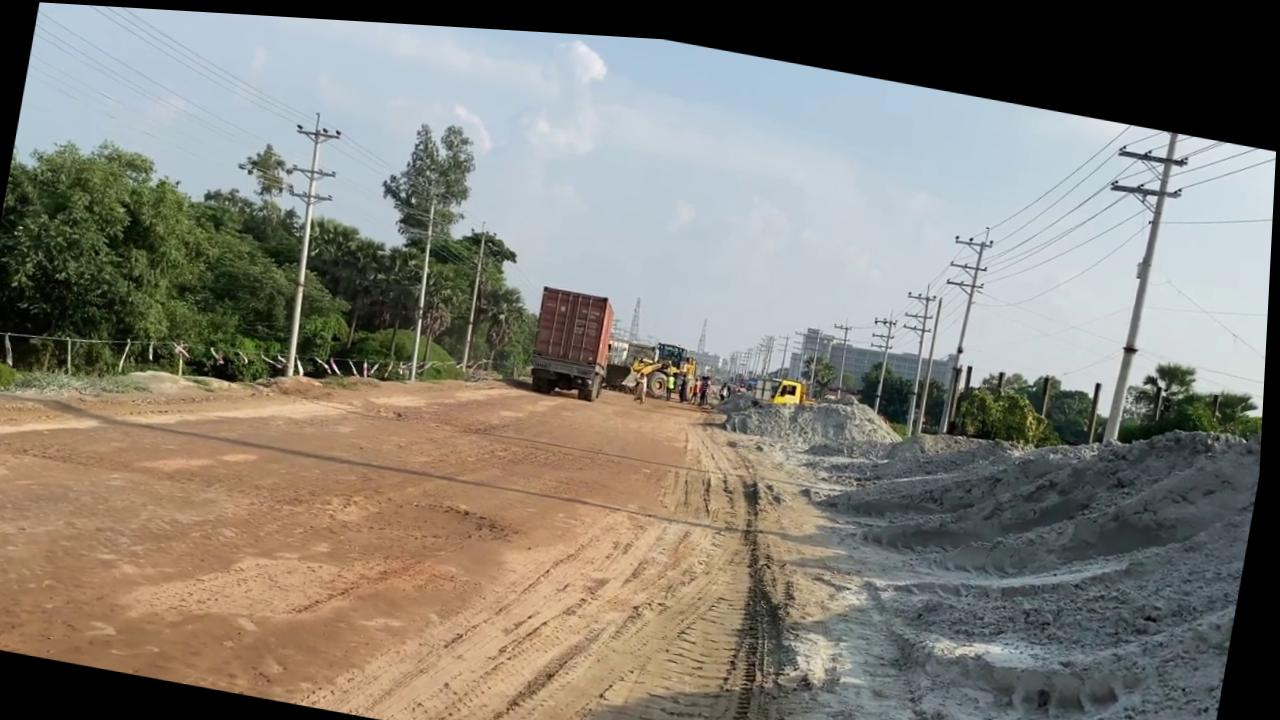Garbage: (774, 350, 1267, 720)
Pole: (1105, 113, 1187, 433), (255, 103, 348, 376), (925, 208, 998, 425), (402, 184, 450, 377), (459, 215, 494, 368)
Traffic-sign: (353, 106, 485, 381)
Tree: (527, 276, 622, 396), (628, 327, 705, 396), (605, 331, 678, 392), (752, 362, 819, 407)
